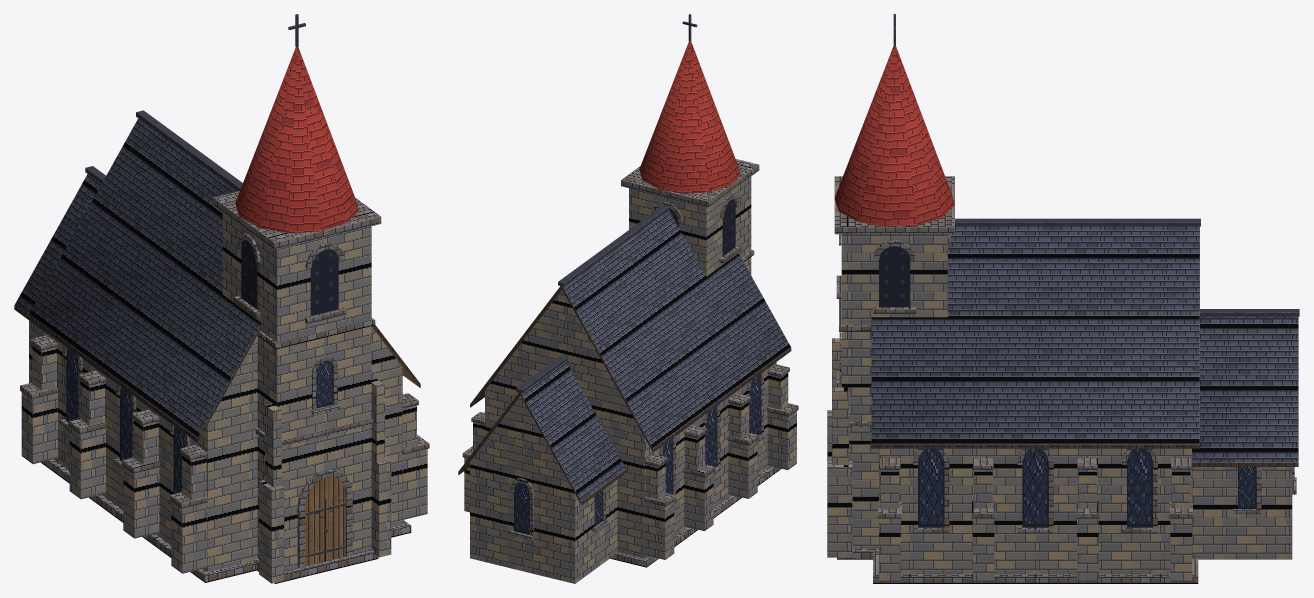
The model's file is chapel_2.glb.
The picture shows the model from 3 angles, left to right: view 1: azimuth 30°, elevation 25°; view 2: azimuth 150°, elevation 25°; view 3: azimuth 270°, elevation 25°; orthographic projection. The views are drawn at different scales.
Parts seen in each view (by area): view 1: chapel_3; view 2: chapel_3; view 3: chapel_3.
Part boxes in pixels (x1=…): chapel_3: x1=14, y1=14, x2=429, y2=583; chapel_3: x1=458, y1=14, x2=798, y2=583; chapel_3: x1=827, y1=14, x2=1299, y2=583.
Bounding box in the file's own units: 8.9 × 18.35 × 15.08.
12 materials, 12 textured.
